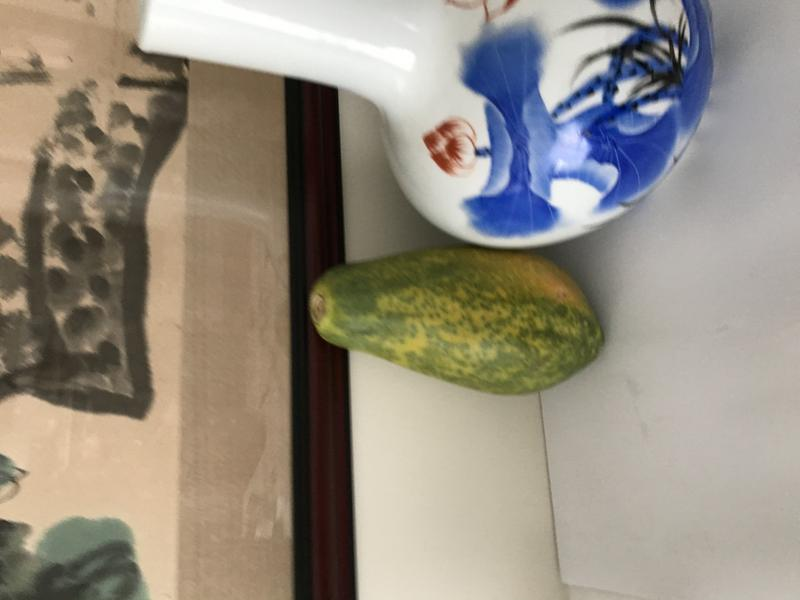papaya: (304, 234, 614, 404)
